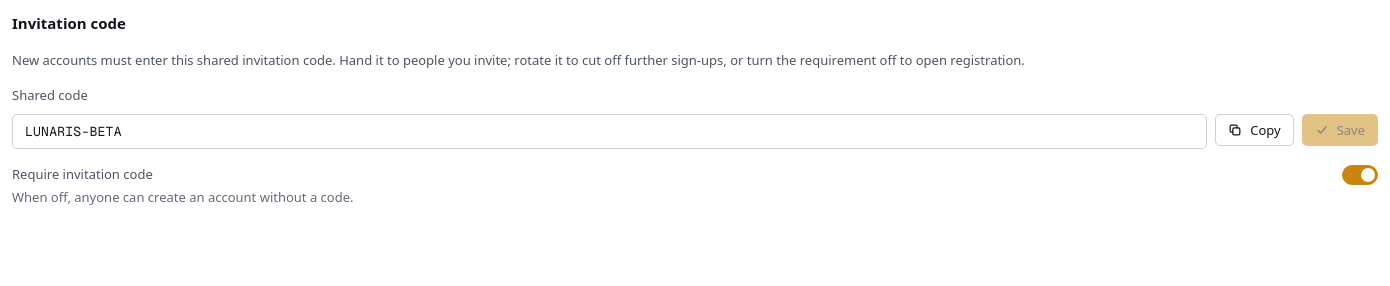
InviteGateSection › surfaces a save error and keeps the section open
The image size is (1390, 286).
Replace the text in the field labelled "Shared code" with "NEW-CODE" at (610,131), box [12,114,1207,148]
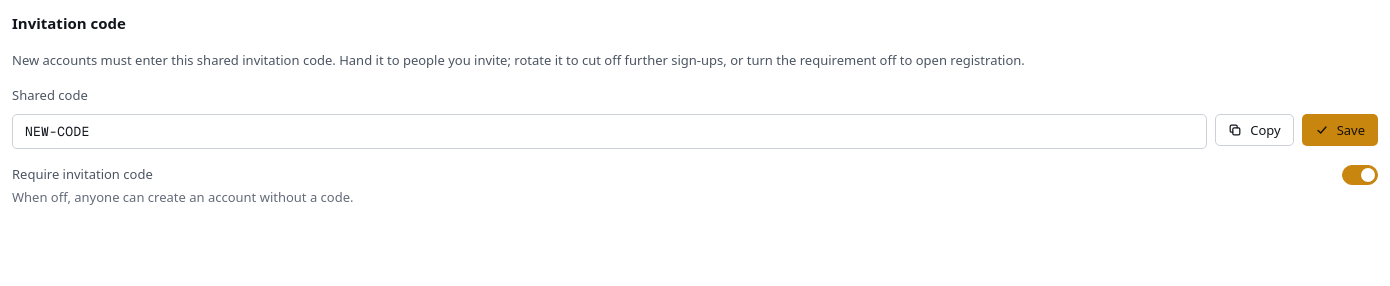
Click the button with aria-label "Save code".
click(1340, 130)  # box [1302,114,1378,146]
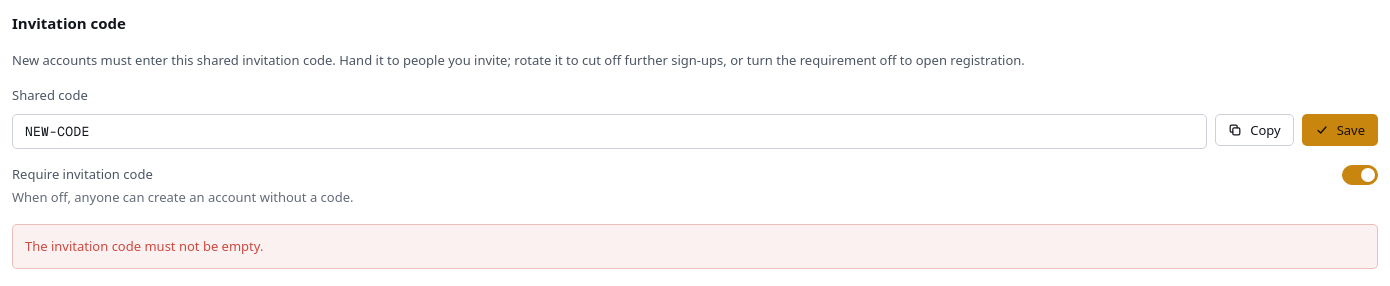
Check: the message reads "The invitation code must not be empty.", box [25,236,263,254]
